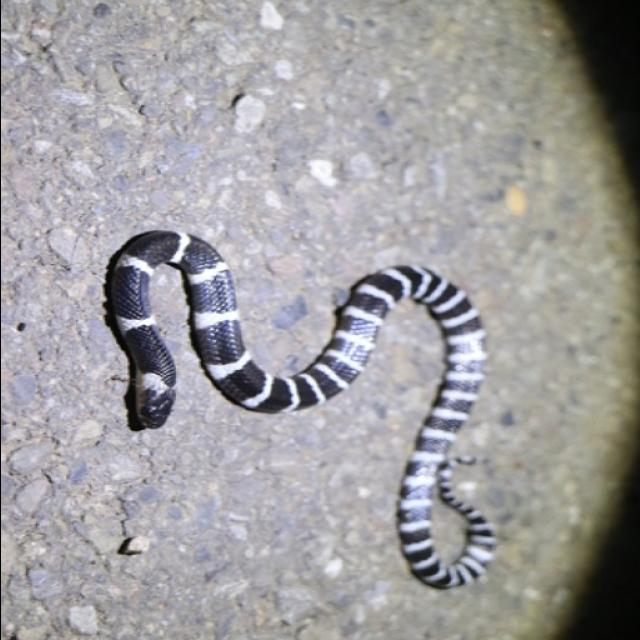snake: (104, 214, 508, 600)
